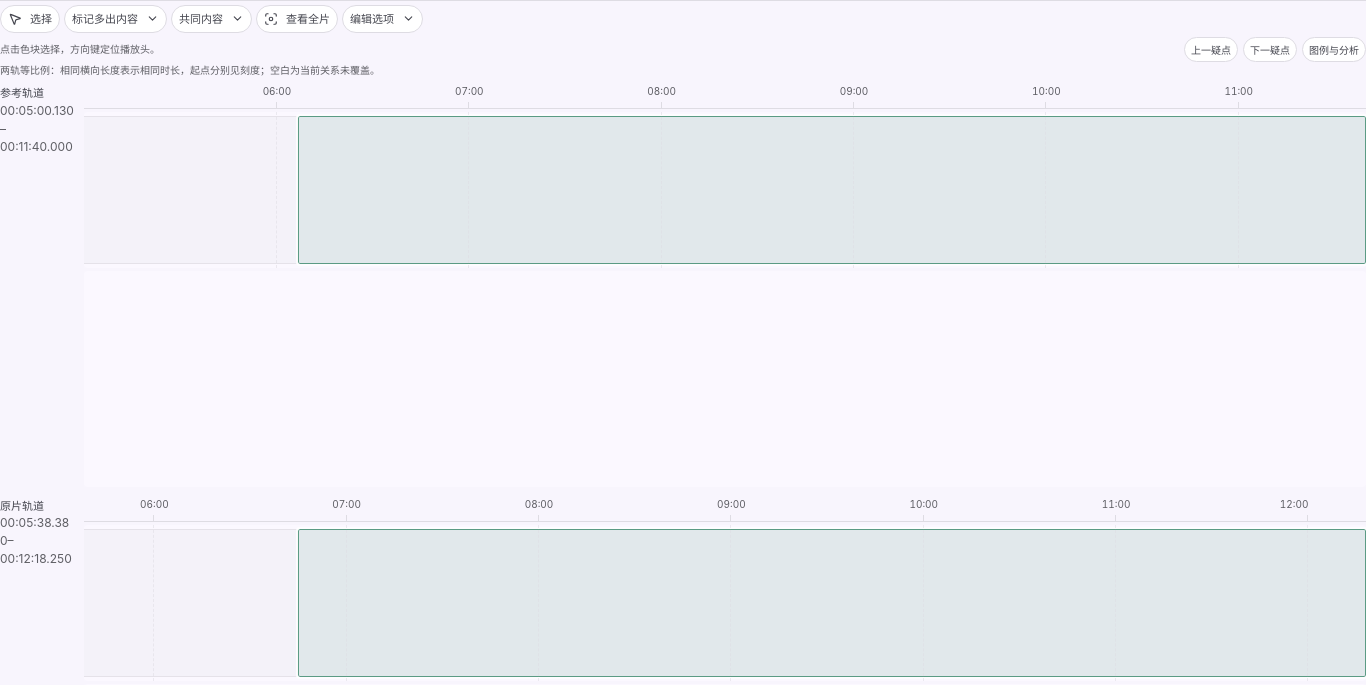
Test: TimeMapDirectEditor › 共同内容和灰色疑点都可进入单侧拖选，不再只允许 ambiguous 自动建议
What coordinates should you click on to do the following:
click the button "标记多出内容"
I would click on:
 (116, 18)
Its box is [64,4,167,32].
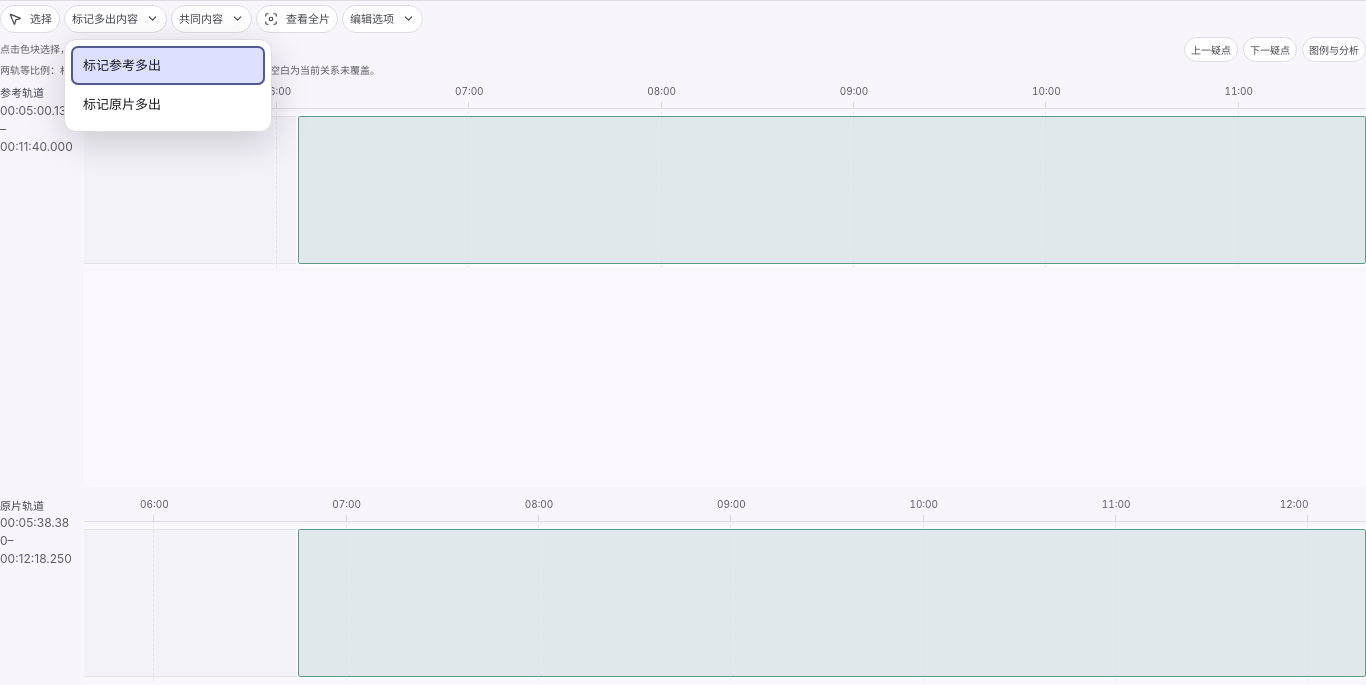
What coordinates should you click on to do the following:
click the menu item "标记原片多出"
I would click on:
 (168, 105)
Its box is [71,85,265,124].
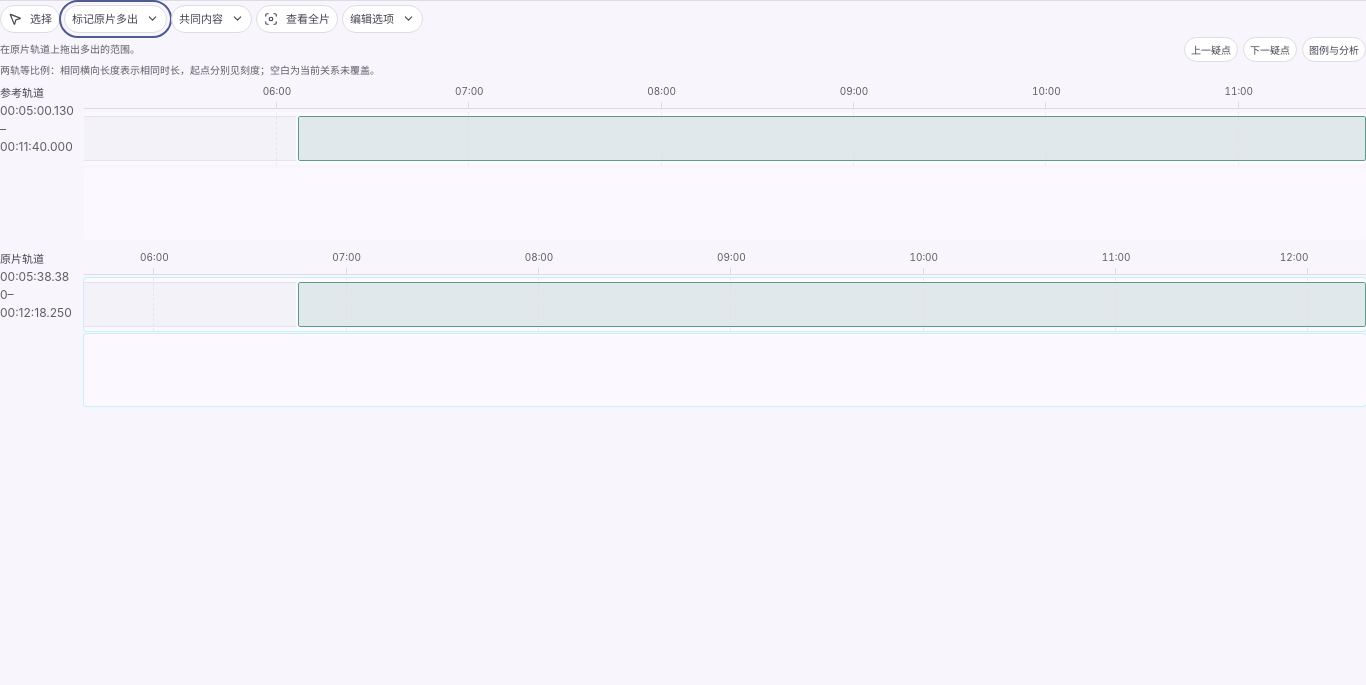
Check: the slider named "原片轨道色块轨，可直接拖动选择独有内容" is shown, box [84,278,1365,330]
Check: the element named "原片轨道局部证据轨，可拖动选择独有内容" is shown, box [84,334,1365,406]
